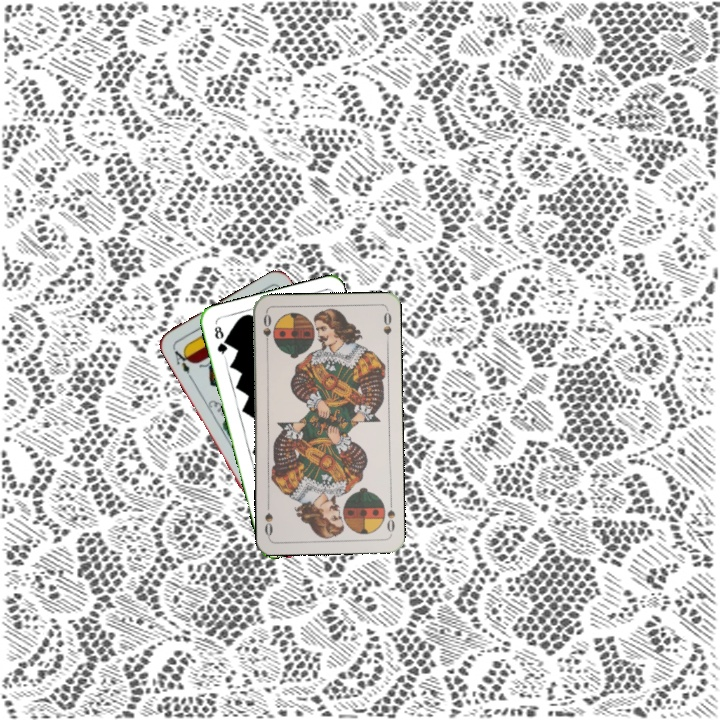EA: (169, 343, 194, 381)
G8: (210, 322, 230, 360)
SO: (259, 310, 274, 350), (383, 496, 397, 534)
